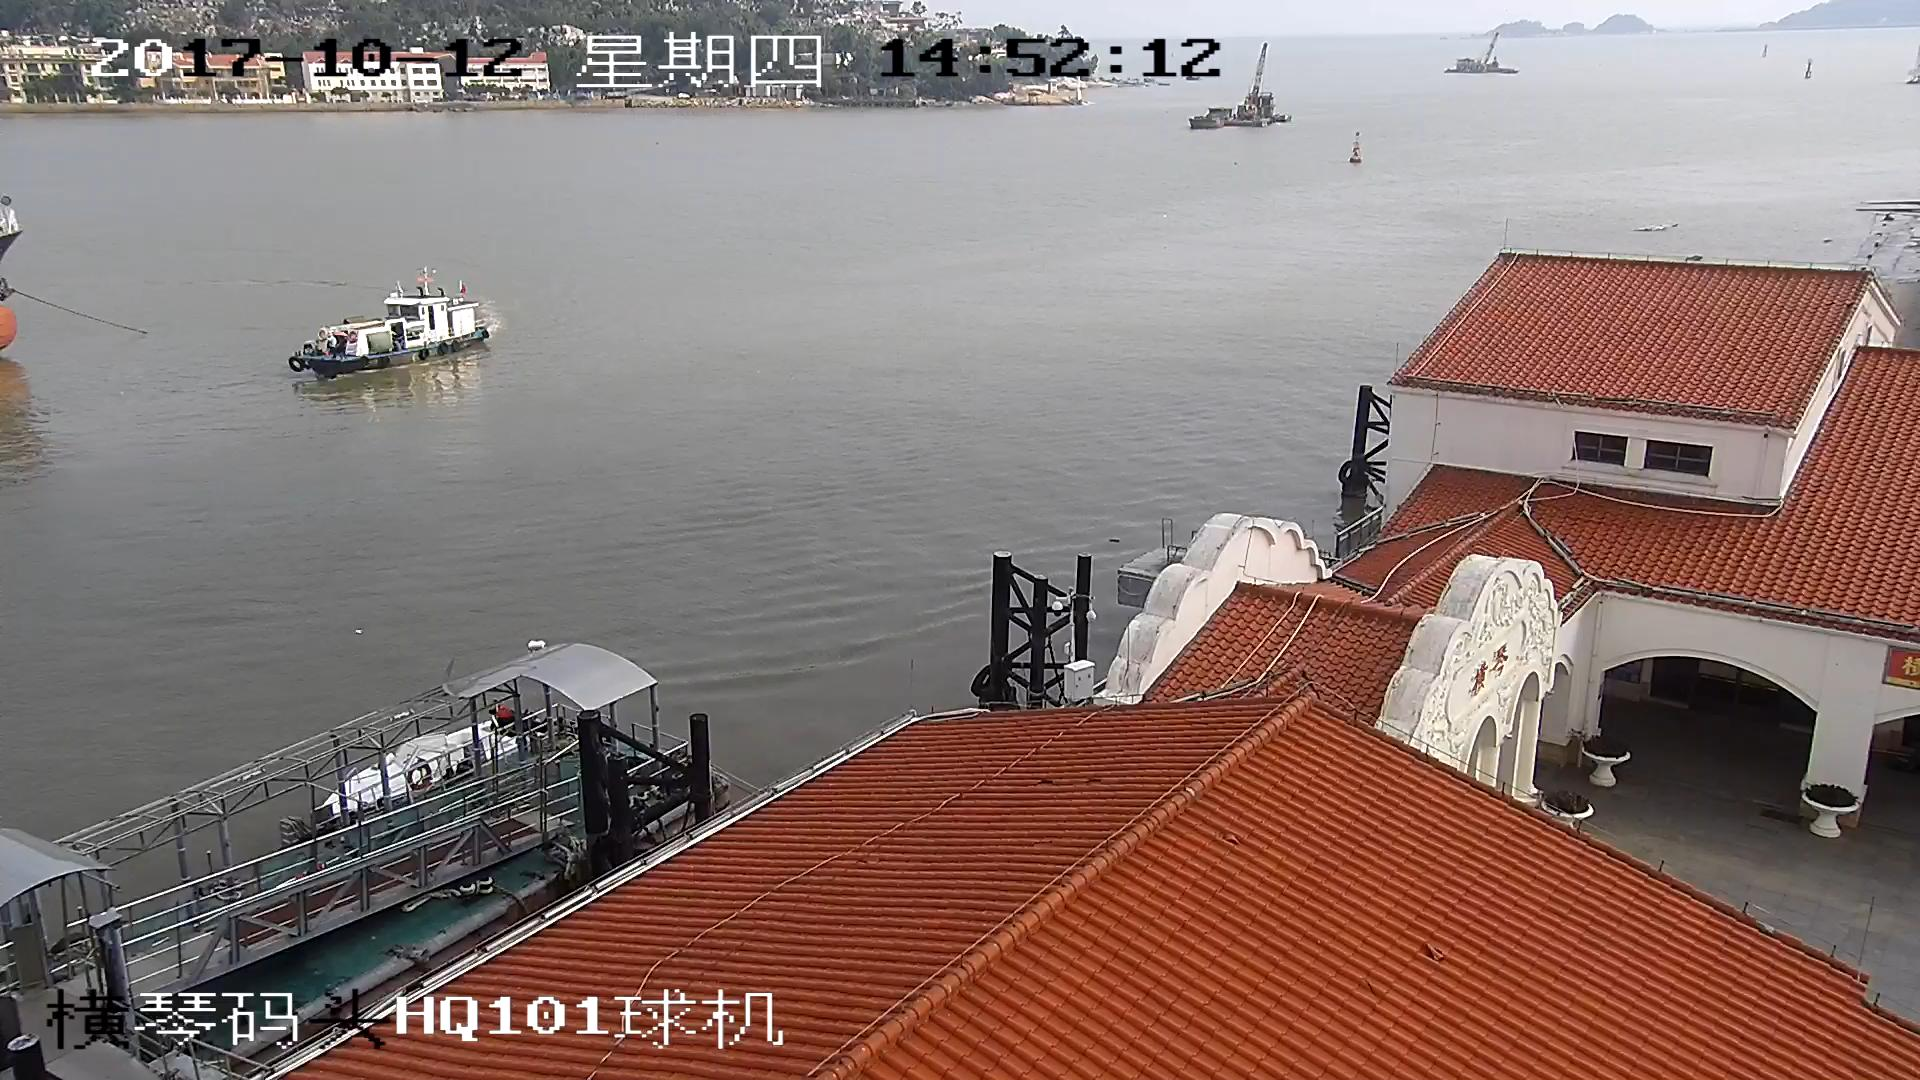fishing boat: (288, 276, 493, 374)
